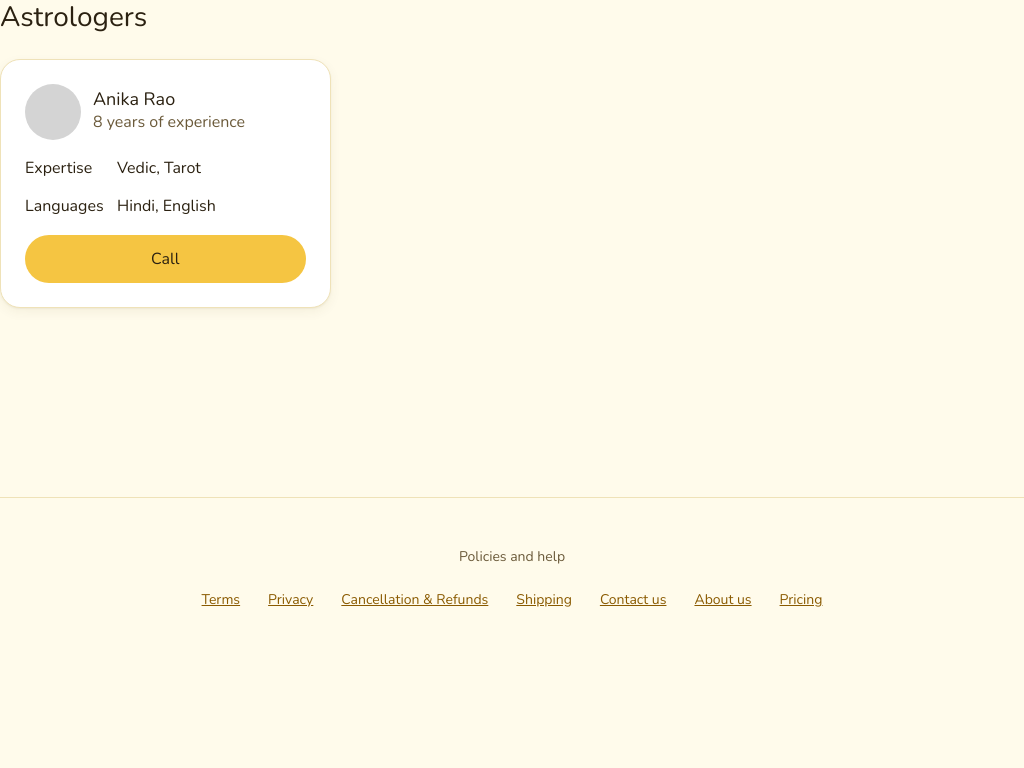
Test case: HomePage › shows and spends an existing Subscription credit without Checkout
The width and height of the screenshot is (1024, 768).
Click the button "Call". click: [165, 259]
box: [25,235,306,283]
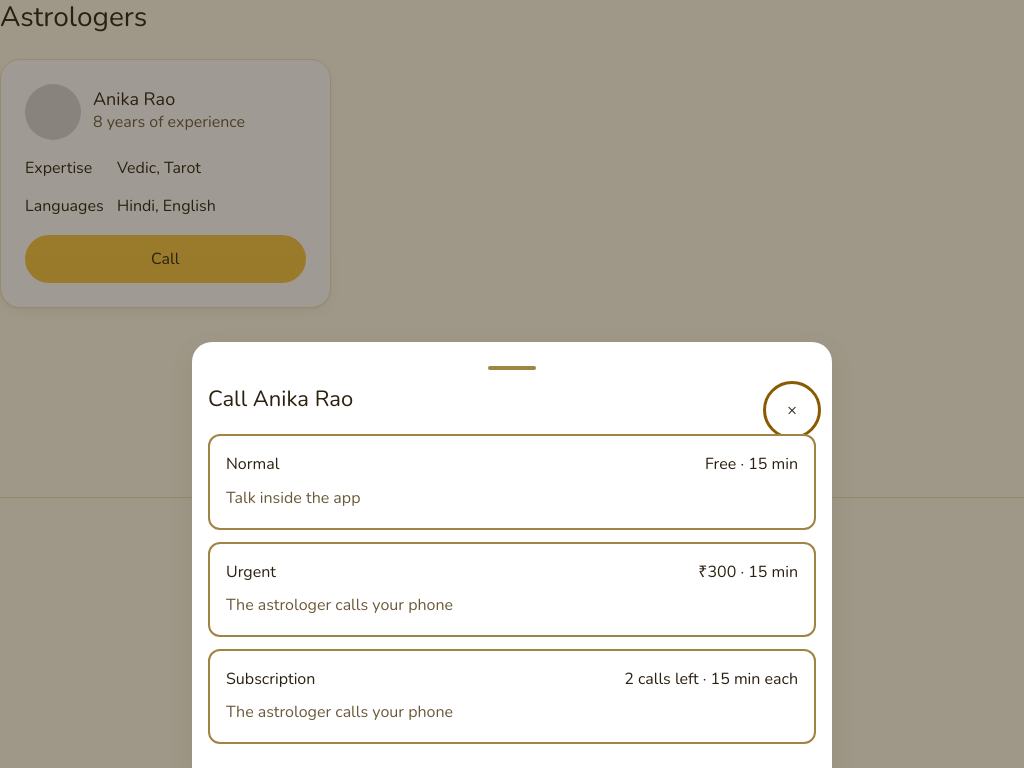
Expected: the text "2 calls left · 15 min each" is shown, [624,667,798,692]
Click the button "Subscription". click: [271, 679]
box: [208,649,816,744]
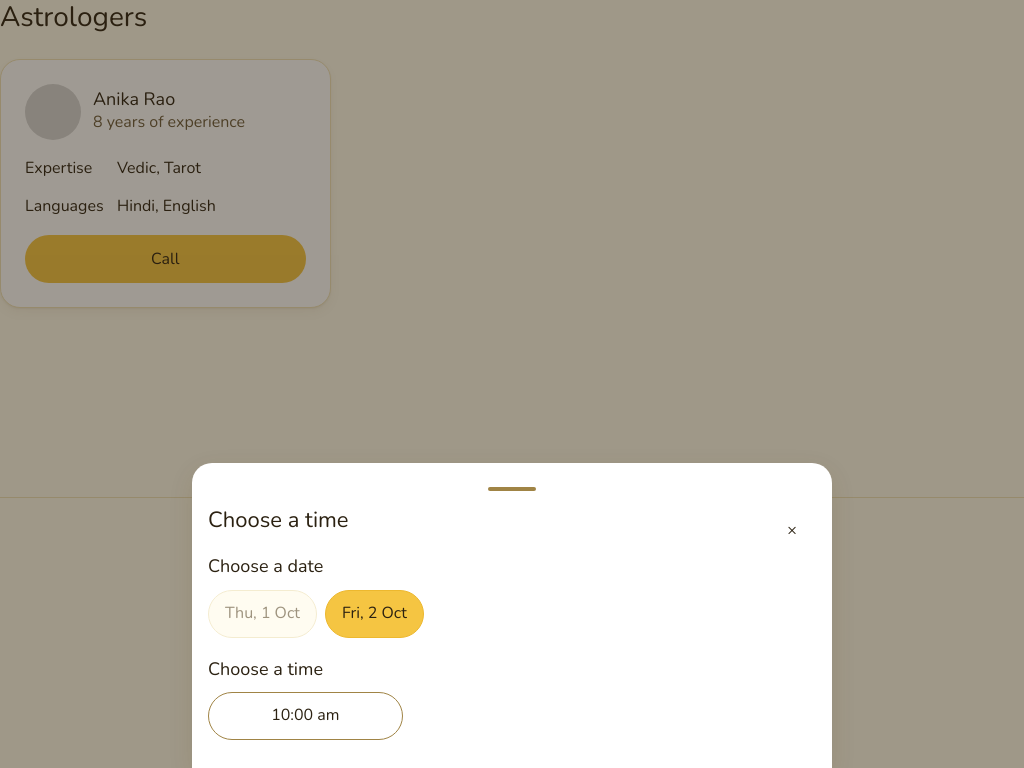
Click the button "10:00 am". click: [305, 716]
box: [208,692,403,740]
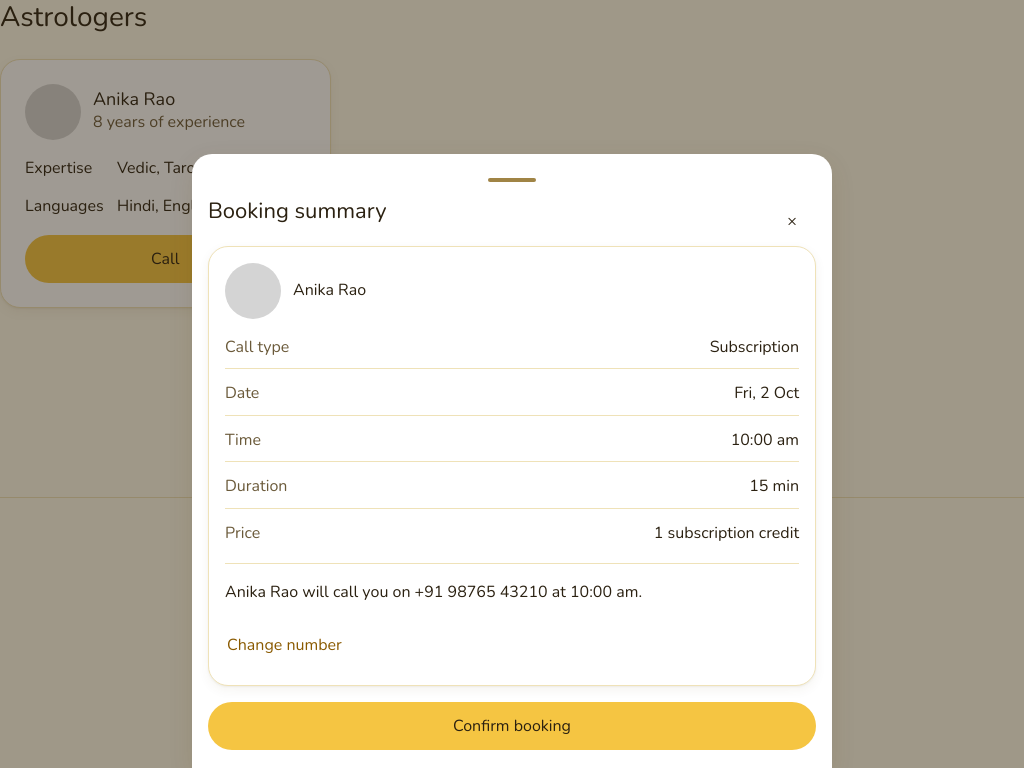
Expected: the text "1 subscription credit" is shown, [654,521,799,547]
Click the button "Confirm booking". click: [512, 726]
box: [208,702,816,750]
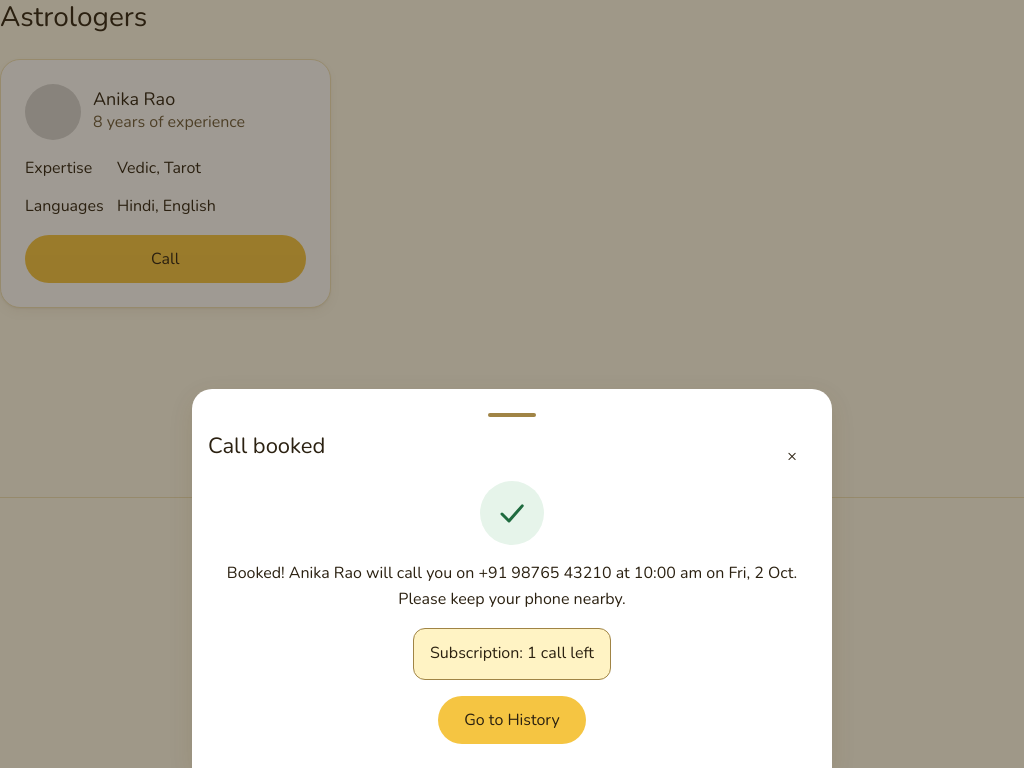
Expected: the text "Subscription: 1 call left" is shown, [413,628,611,680]
